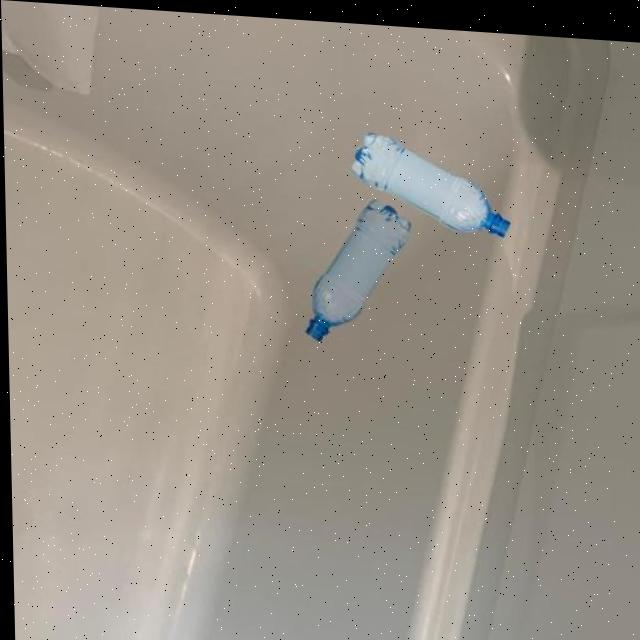bottle: (301, 188, 414, 343), (349, 124, 511, 232)
